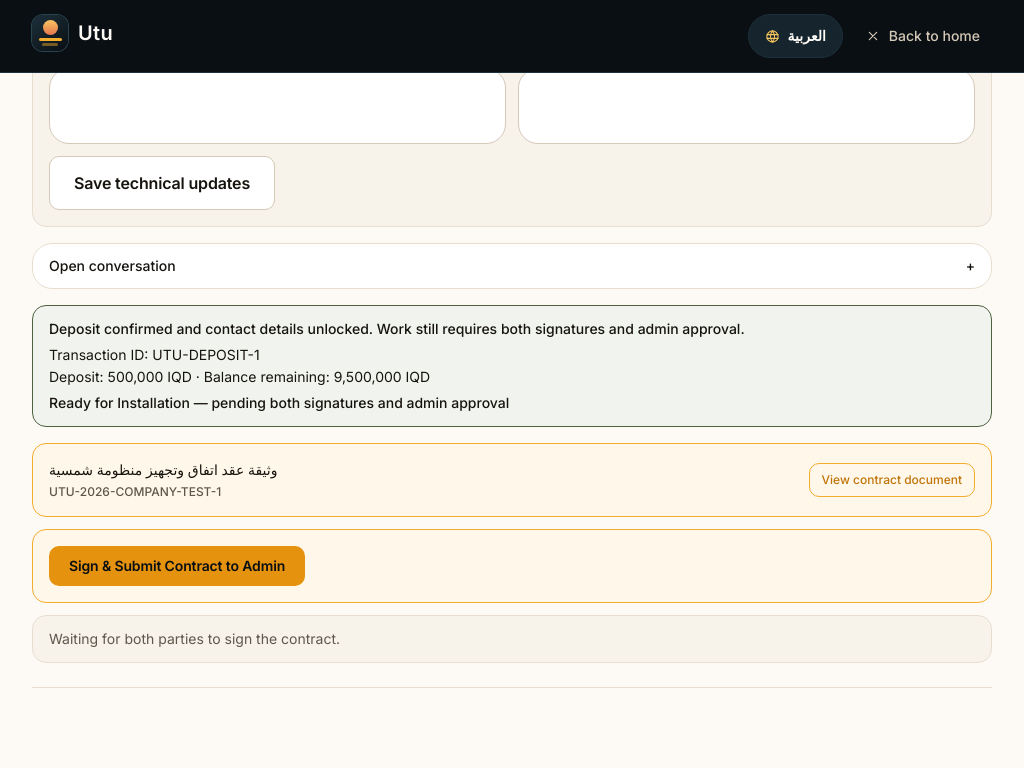
Test: CompanyPortalPage quote marketplace › lets the company sign a deposited contract before work authorization
The width and height of the screenshot is (1024, 768).
(page scrolled)
Click the button "Sign & Submit Contract to Admin" at [177, 566], box [49,546,305,586]
(page scrolled)
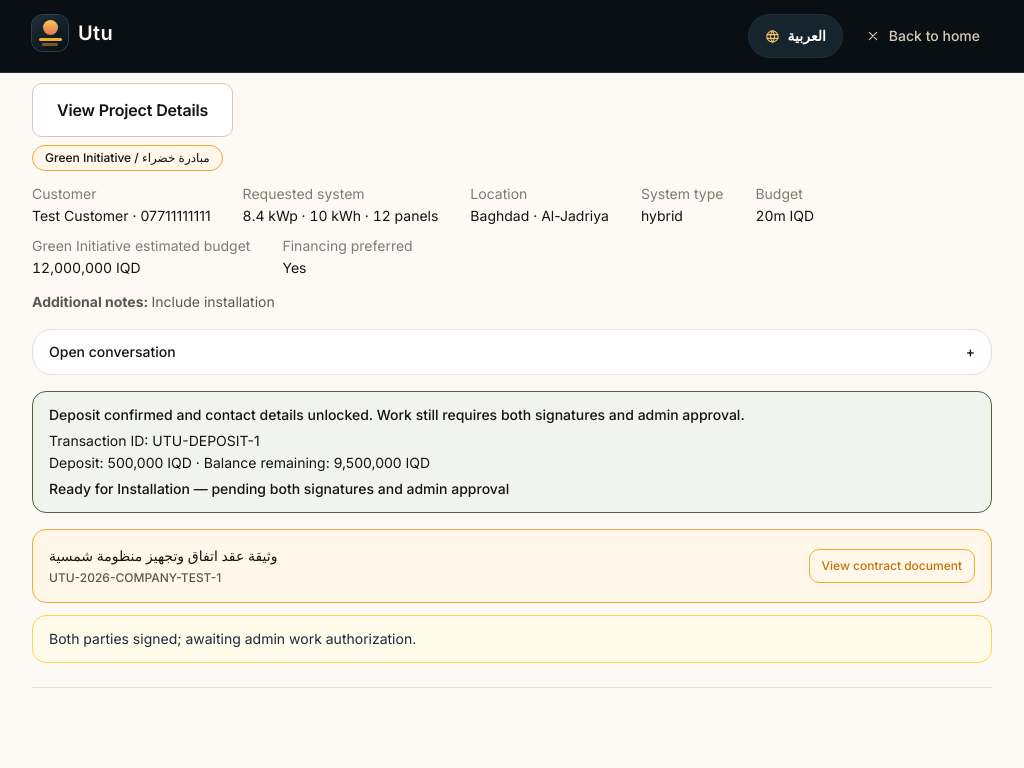
Expected: the text "Both parties signed; awaiting admin work authorization." is shown, [32,615,992,663]
